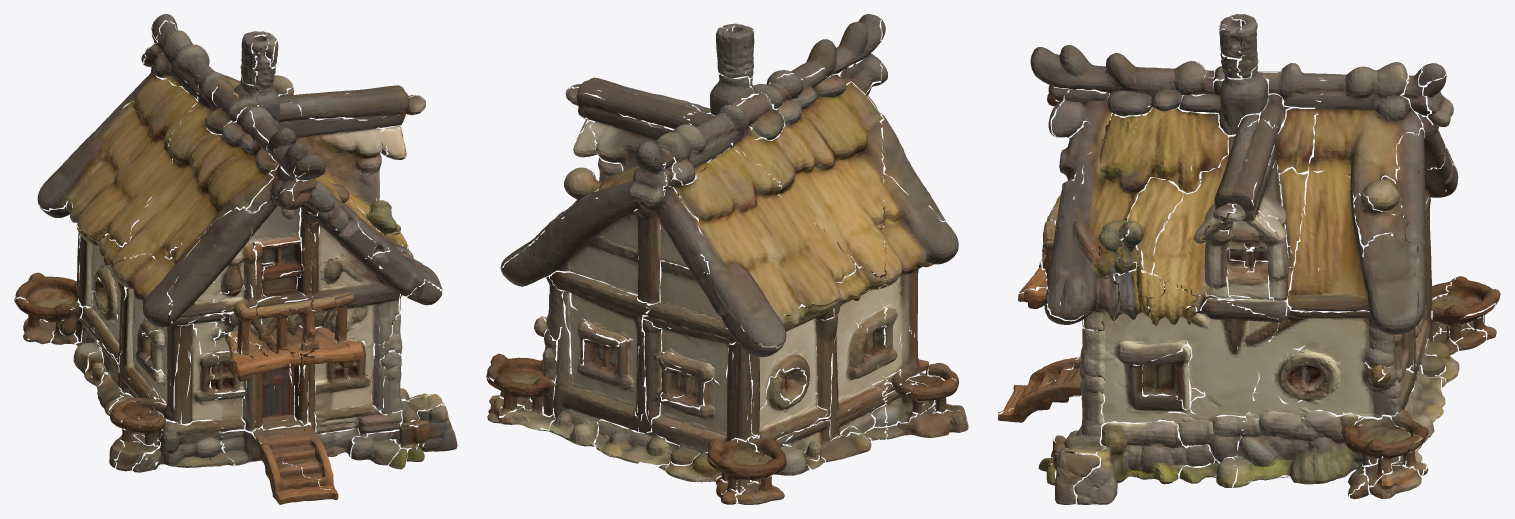
Rendered from village_building_01_lod0.glb.
3 views of the same model, side by side, from view 1: azimuth 30°, elevation 25°; view 2: azimuth 150°, elevation 25°; view 3: azimuth 270°, elevation 25° (orthographic). The views are drawn at different scales.
Visible parts, largest first — view 1: world; view 2: world; view 3: world.
Part boxes in pixels (left/top/right/bottom): world: left=14, top=14, right=457, bottom=504; world: left=486, top=14, right=968, bottom=504; world: left=998, top=14, right=1500, bottom=504.
Bounding box in the file's own units: 0.2862 × 0.2983 × 0.3229.
Materials: 1 (1 with a texture image).
